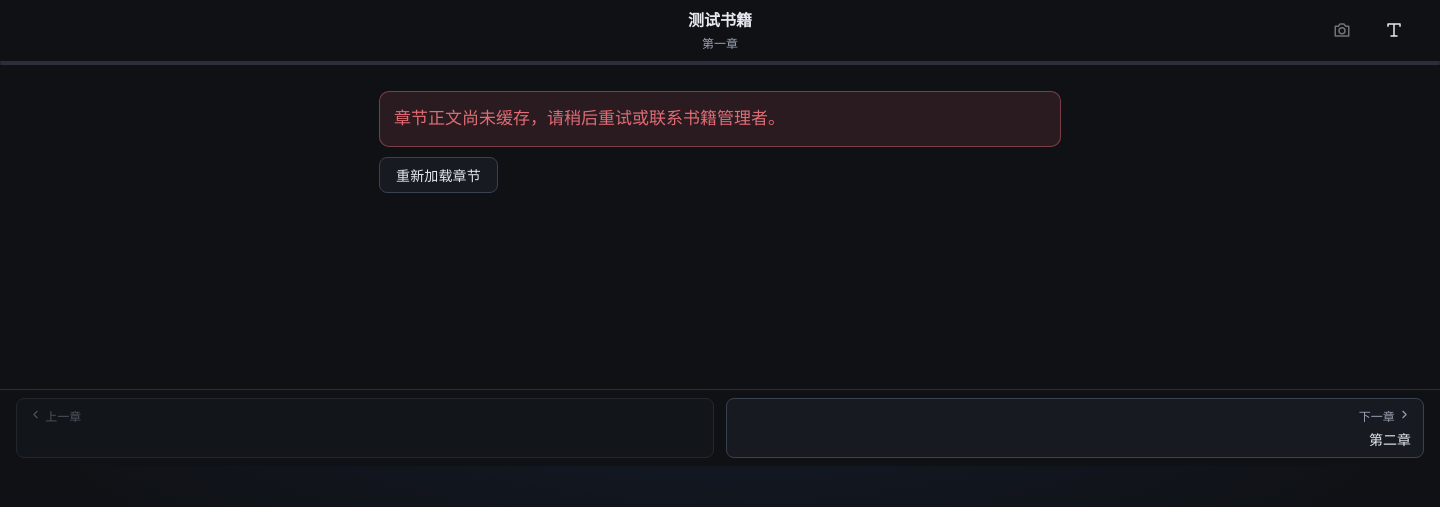
Scenario: keeps public retries storage-only and explains a missing body
The width and height of the screenshot is (1440, 507).
Expected: the message reads "章节正文尚未缓存，请稍后重试或联系书籍管理者。", [394, 109, 785, 128]
Click the button "重新加载章节" at (438, 175), box [379, 157, 498, 193]
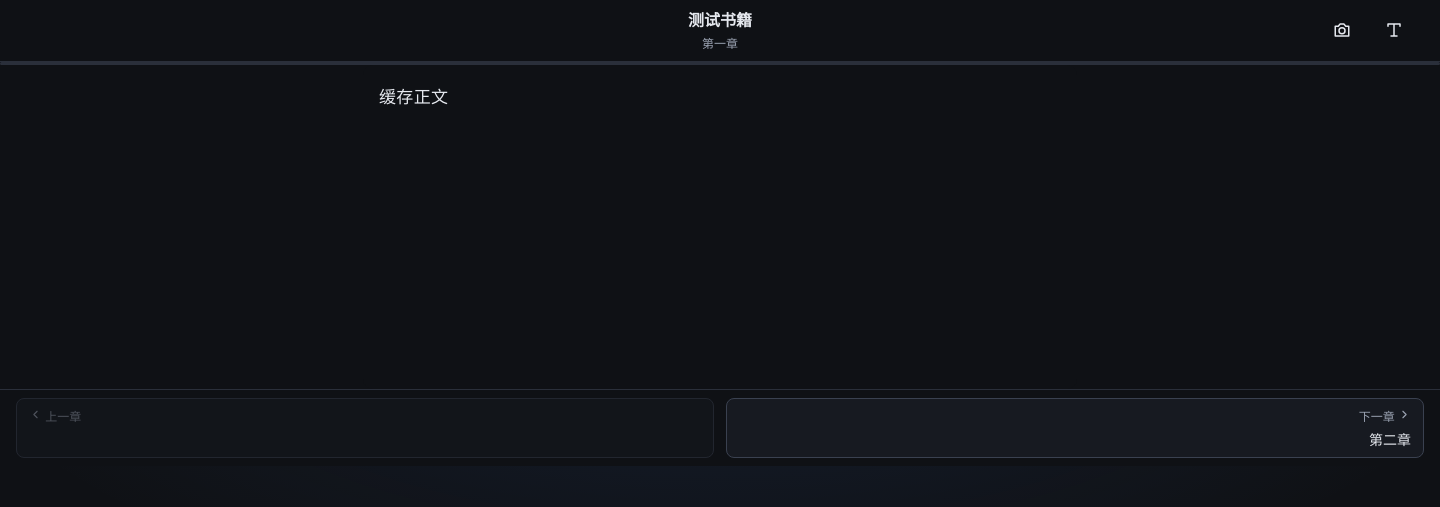
Expected: the text "缓存正文" is shown, [379, 88, 448, 107]
